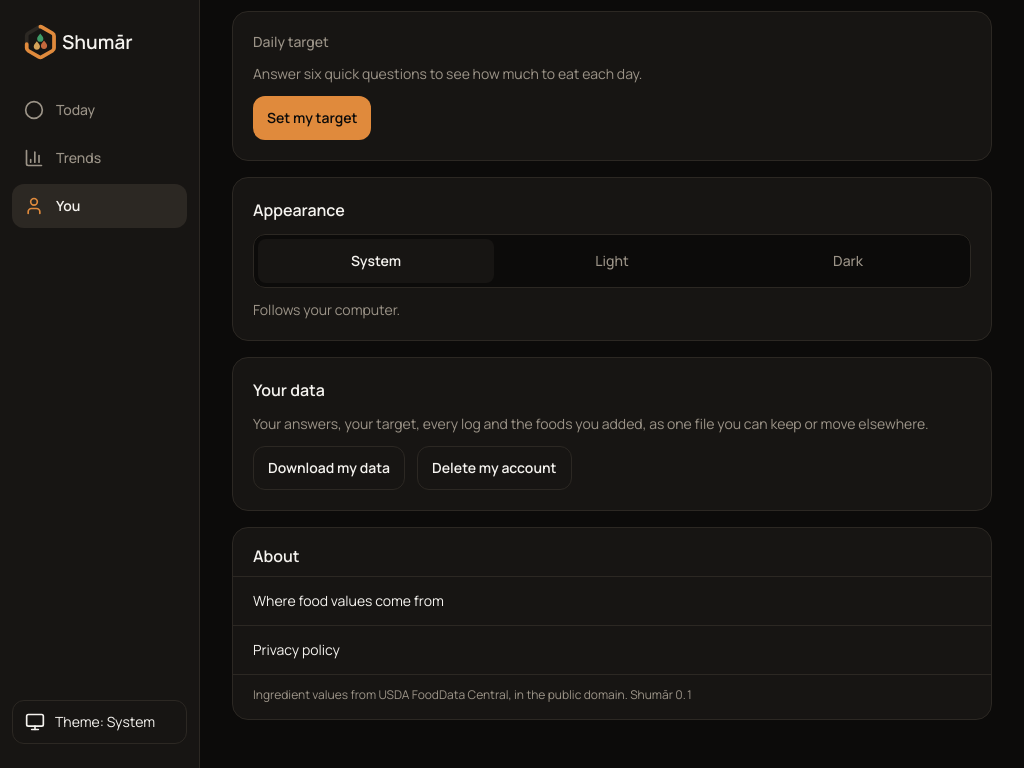
Test: the food sources page › opens from the You screen and lists the USDA releases in use
(page scrolled)
Expected: the element "About" shows "USDA FoodData Central, in the public domain", [253,686,693,703]
What coordinates should you click on to do the following:
click the link "Where food values come from"
I would click on:
 (348, 600)
Its box is [233,576,991,625].
(page scrolled)
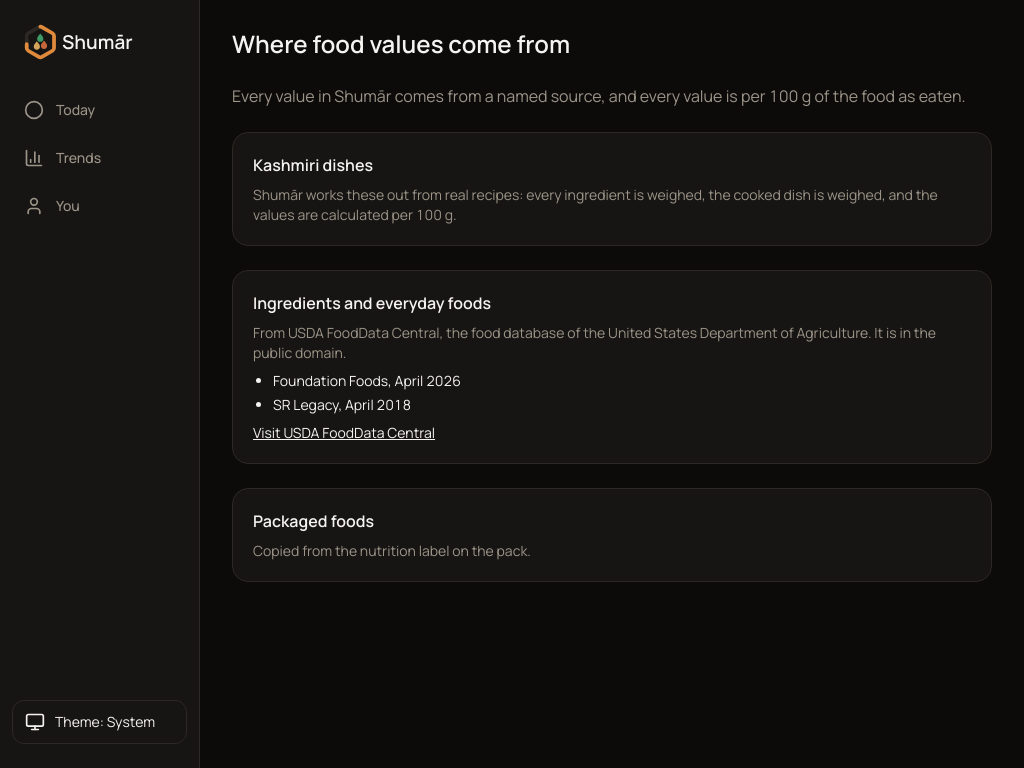
Expected: the list item "Foundation Foods, April 2026" is shown, [273,371,461,390]
Expected: the list item "SR Legacy, April 2018" is shown, [273,395,411,414]
